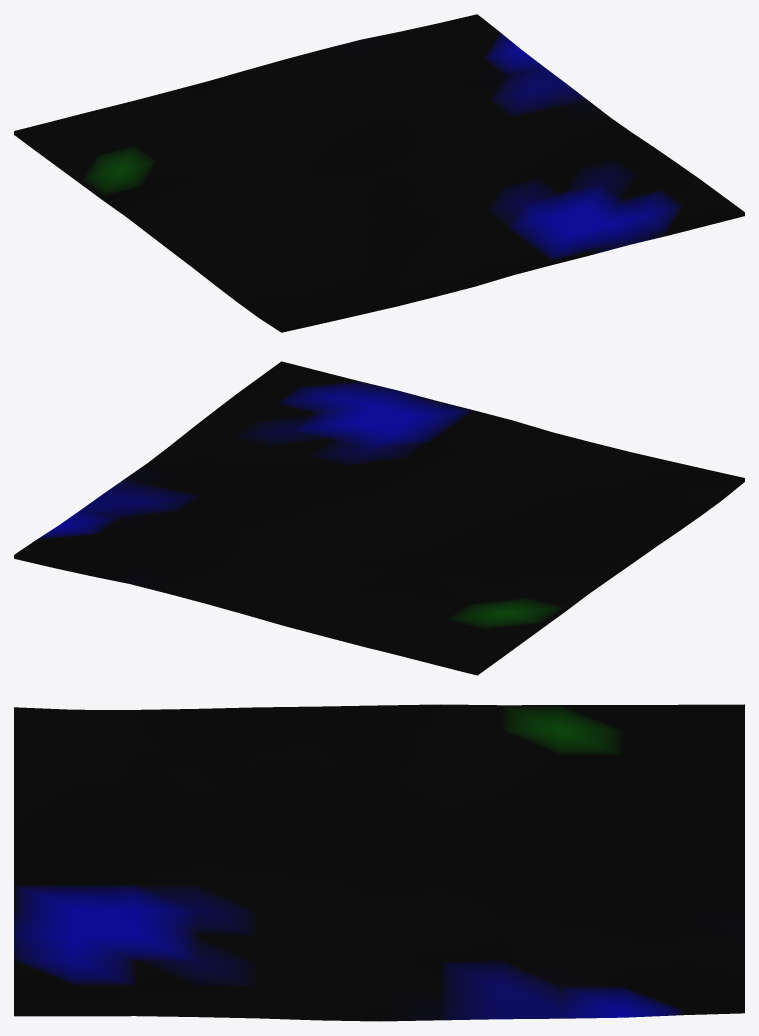
The model's file is coast_0_6.glb.
3 views of the same model, one above another, from view 1: azimuth 30°, elevation 25°; view 2: azimuth 150°, elevation 25°; view 3: azimuth 270°, elevation 25° (orthographic). The views are drawn at different scales.
Parts seen in each view (by area): view 1: terrain; view 2: terrain; view 3: terrain.
Boxes of the visible parts, x1,y1,x2,y2 form: terrain: (14,14,744,332); terrain: (14,361,744,675); terrain: (14,704,744,1021).
Size of the model in its own units: 192 by 5.76 by 192.
